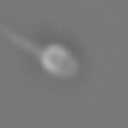normal: (1, 25, 39, 58)
